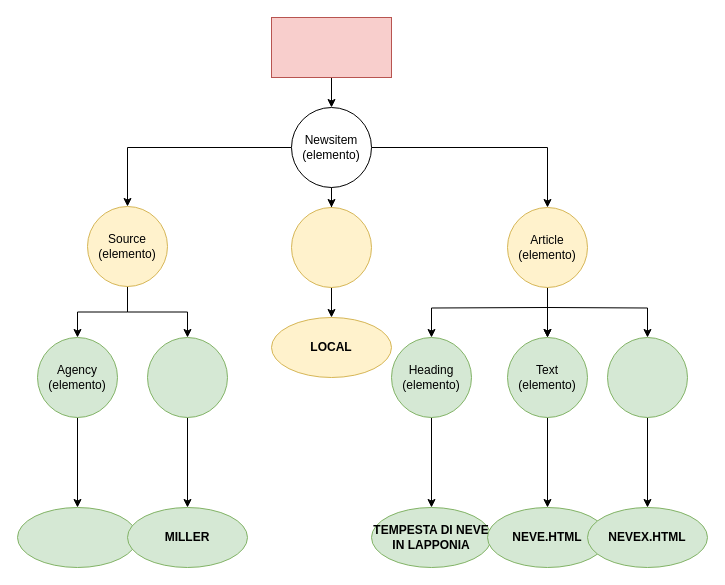
This 725x585 diagram has some shape labels left out. The centre of each missing label's shape, as x and y in pixels:
Class (elemento): [331,247]
Editor (elemento): [187,377]
Publication (nodo radice): [331,47]
STT: [77,537]
Summary (elemento): [647,377]
